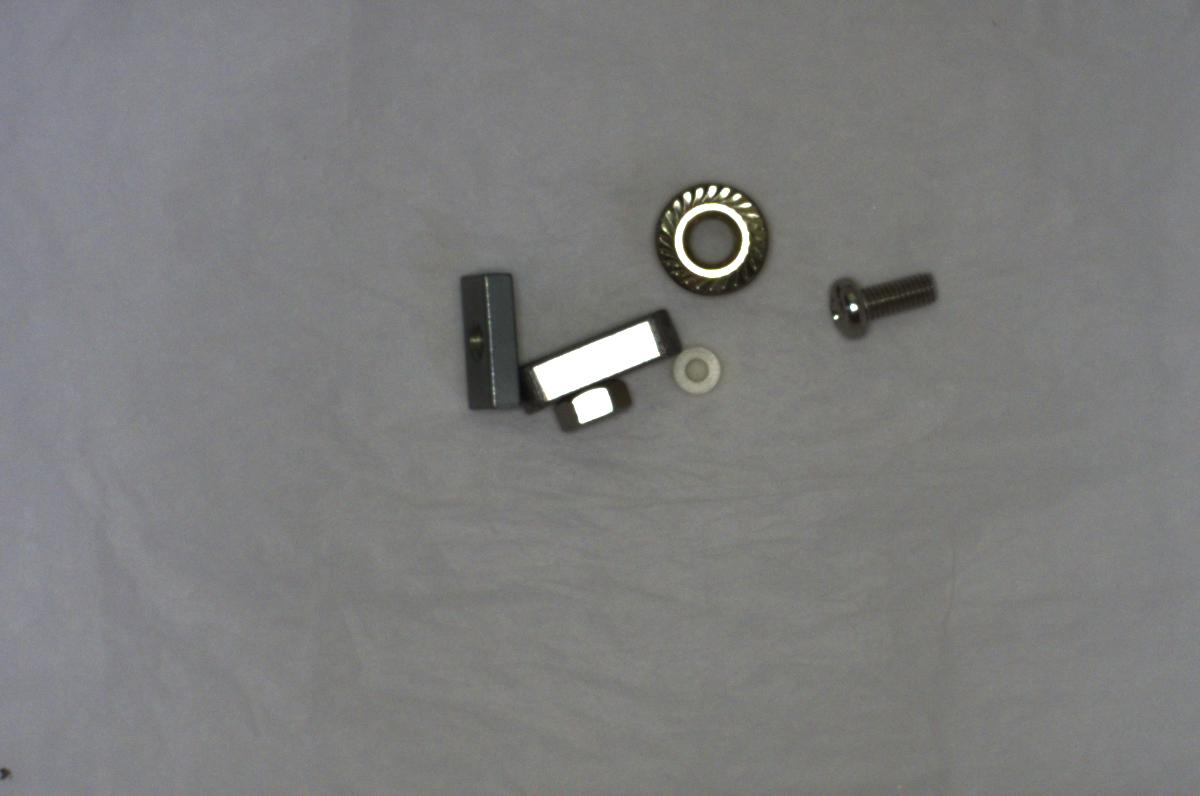Flange nut: (646, 169, 778, 304)
Hexagon nut: (548, 376, 642, 440)
Keybar: (516, 300, 683, 398)
Plastic cushion pillar: (658, 335, 728, 403)
Rectangular nut: (437, 267, 525, 421)
Round head screw: (823, 262, 947, 351)
